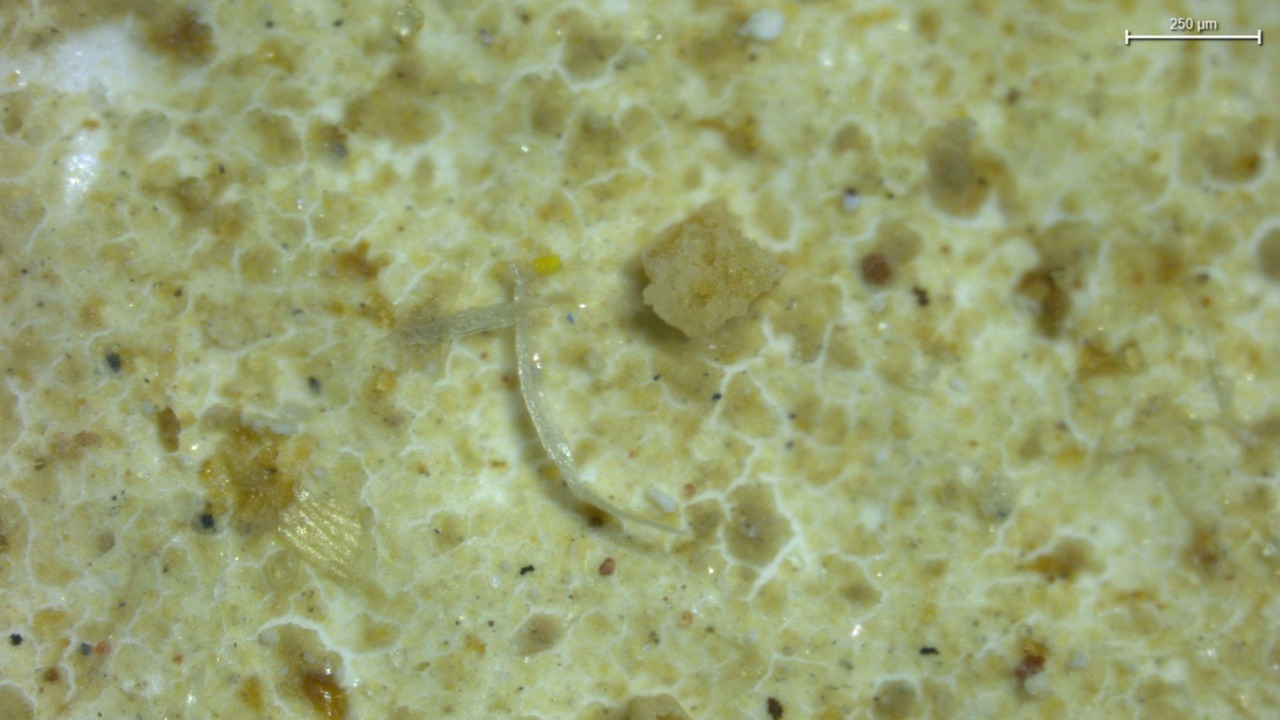microplastic_fragment: (642, 208, 784, 337)
